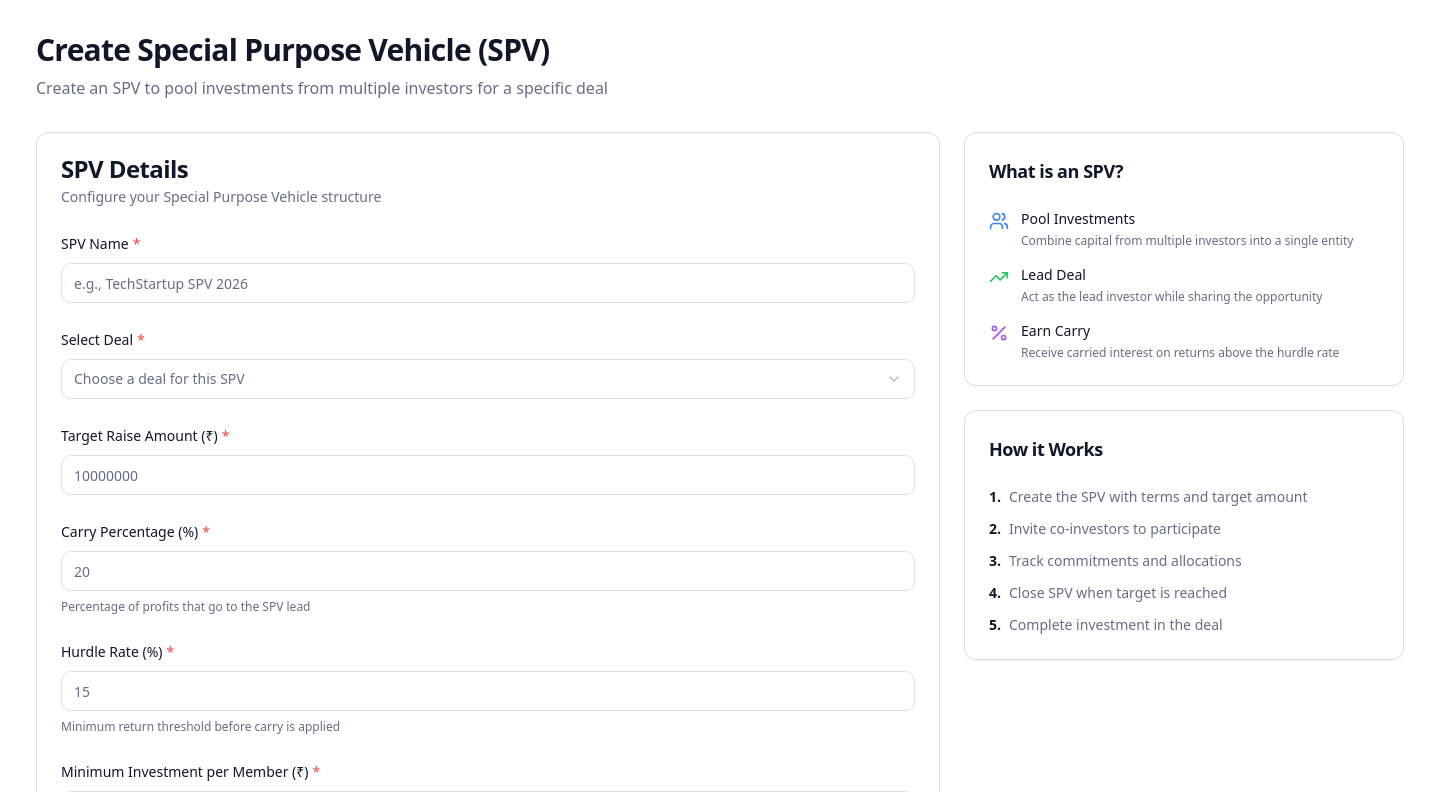
it: US-INVESTOR-008: Create SPV › Deal Selection › should display deal details when selected
The width and height of the screenshot is (1440, 792).
Click the dropdown named "Select Deal" at (159, 378), box 61,359 -> 915,399
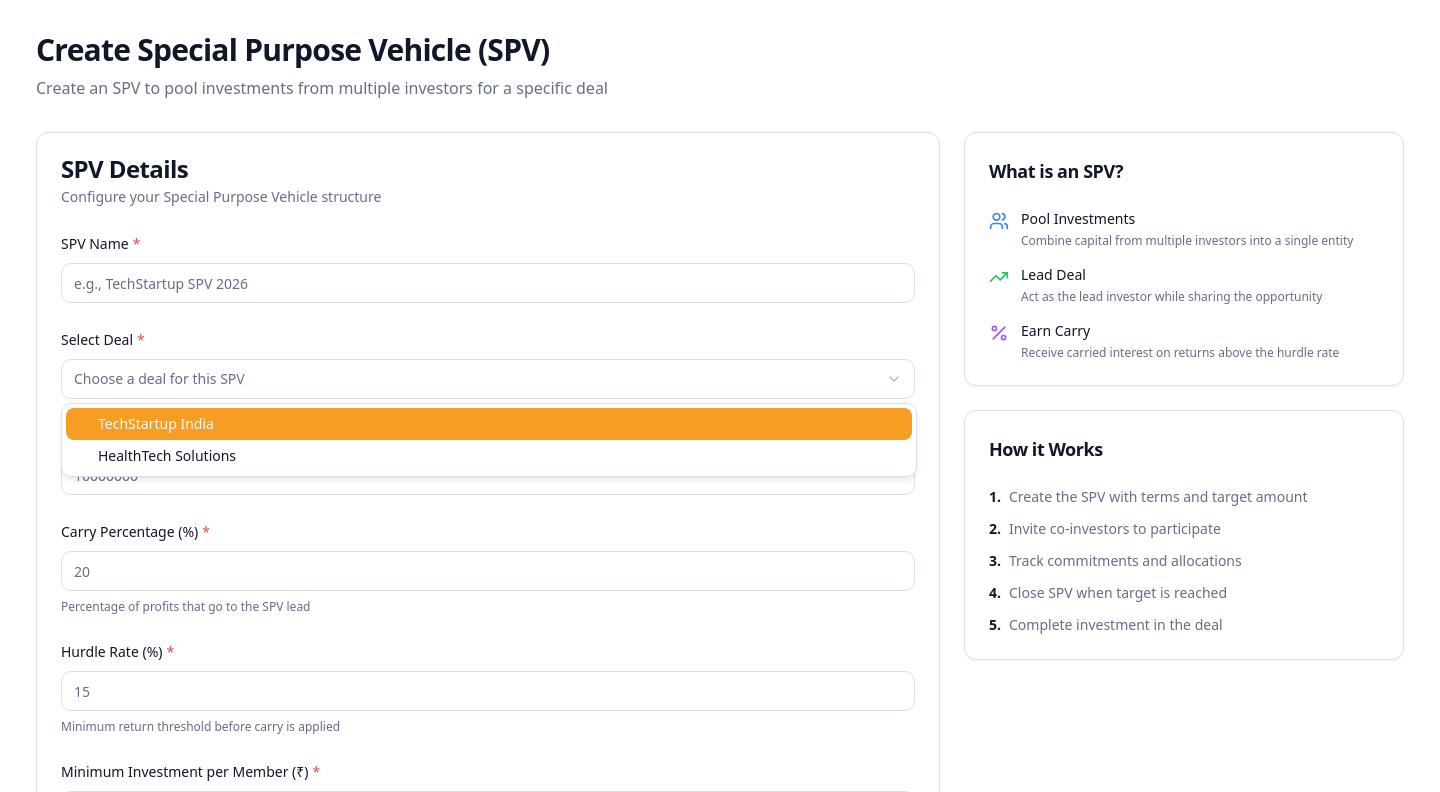
# Wait for option and click it
Click the option "TechStartup India" at (156, 424), box 66,408 -> 912,440
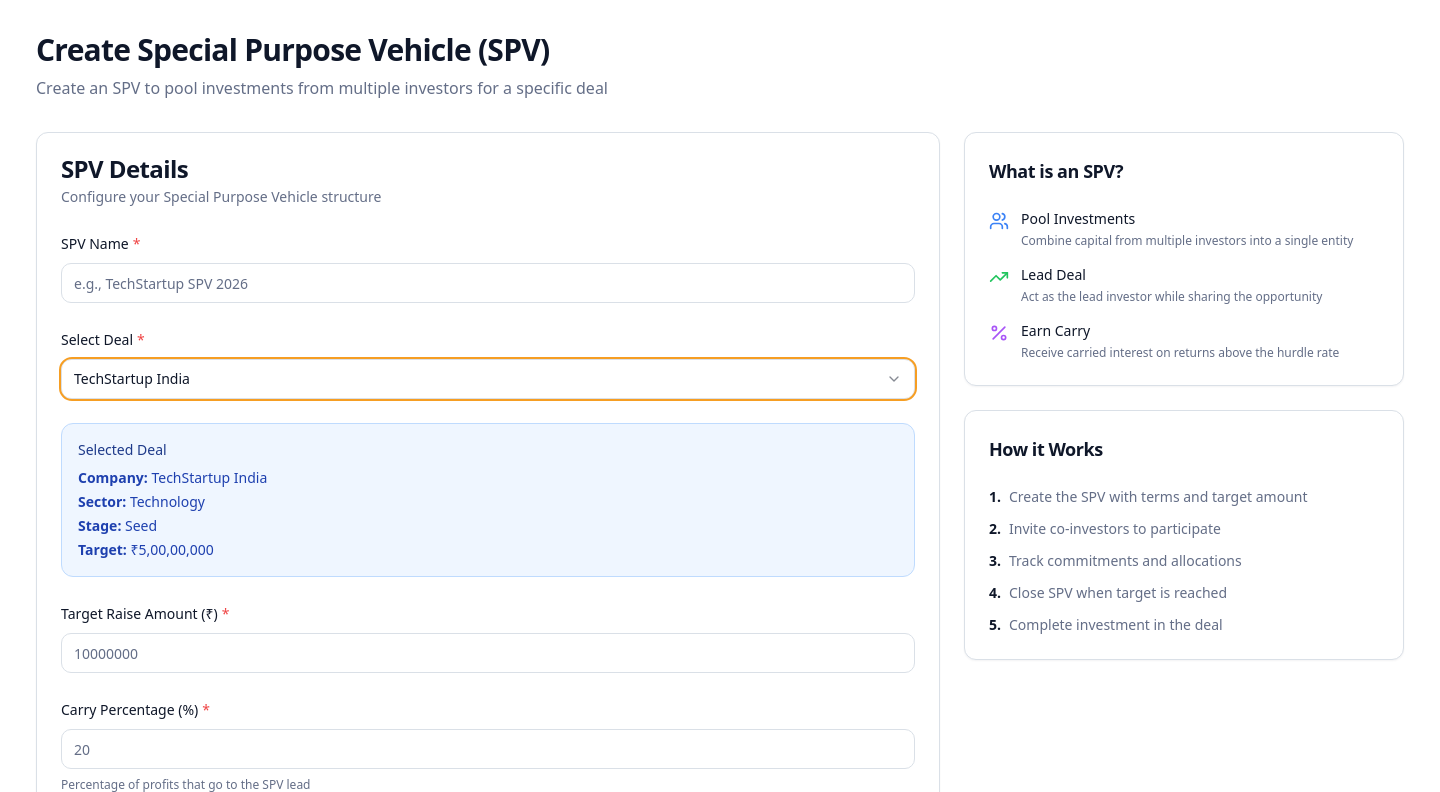
Check: the text "Sector: Technology" is shown, box 78,492 -> 205,511
Check: the text "Target: ₹5,00,00,000" is shown, box 78,540 -> 214,559
